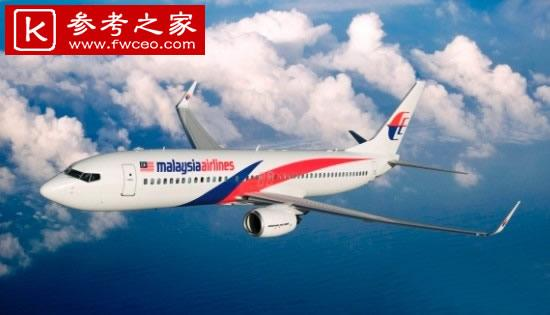airplane: (37, 73, 524, 254)
